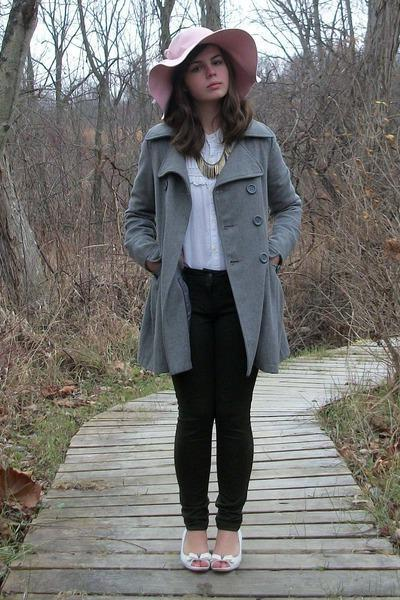jacket: (120, 119, 306, 378)
short sleeve shirt: (172, 126, 248, 283)
trousers: (165, 267, 275, 535)
